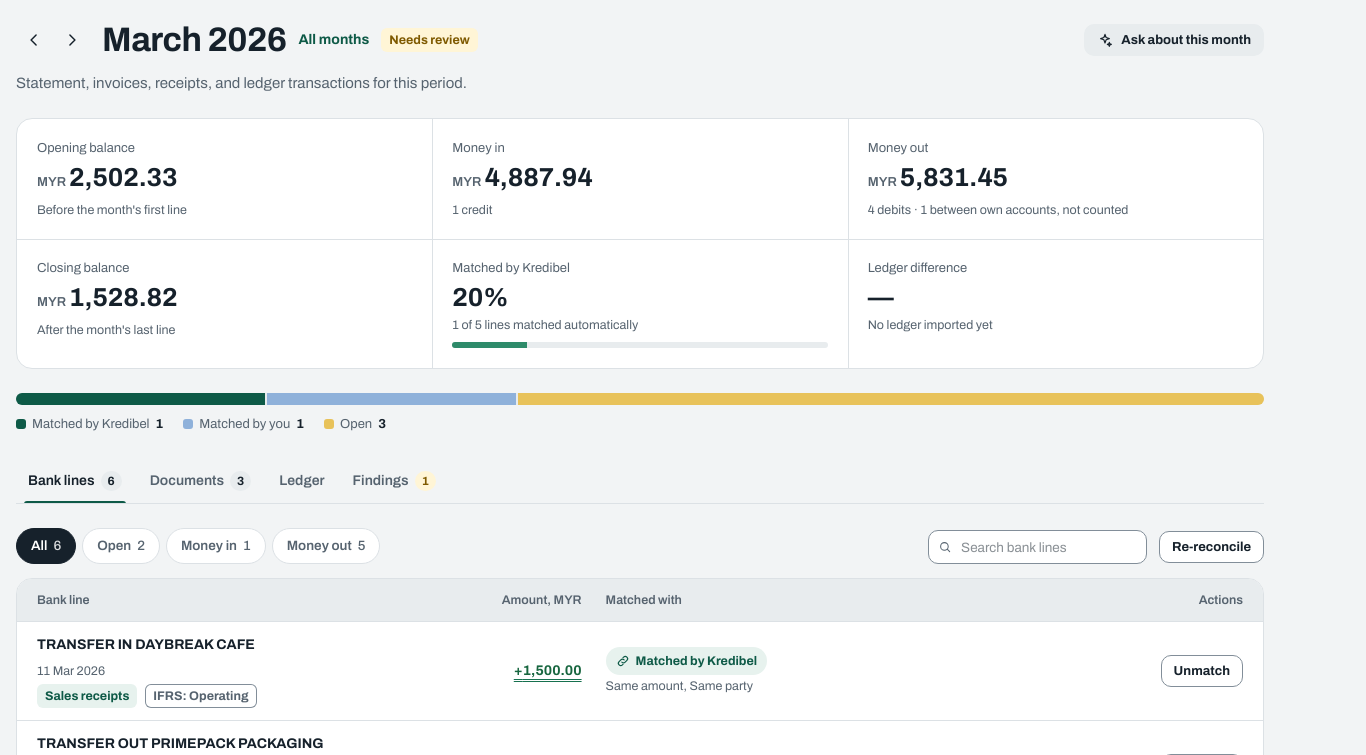
Test: MonthPage › searches bank lines by description and category
expect the text "TRANSFER IN DAYBREAK CAFE" is shown: met, box [37,637,255,652]
Type "DAYBREAK" into the field labelled "Search bank lines". click: {"x": 1038, "y": 547}
box: [928,530,1147,564]
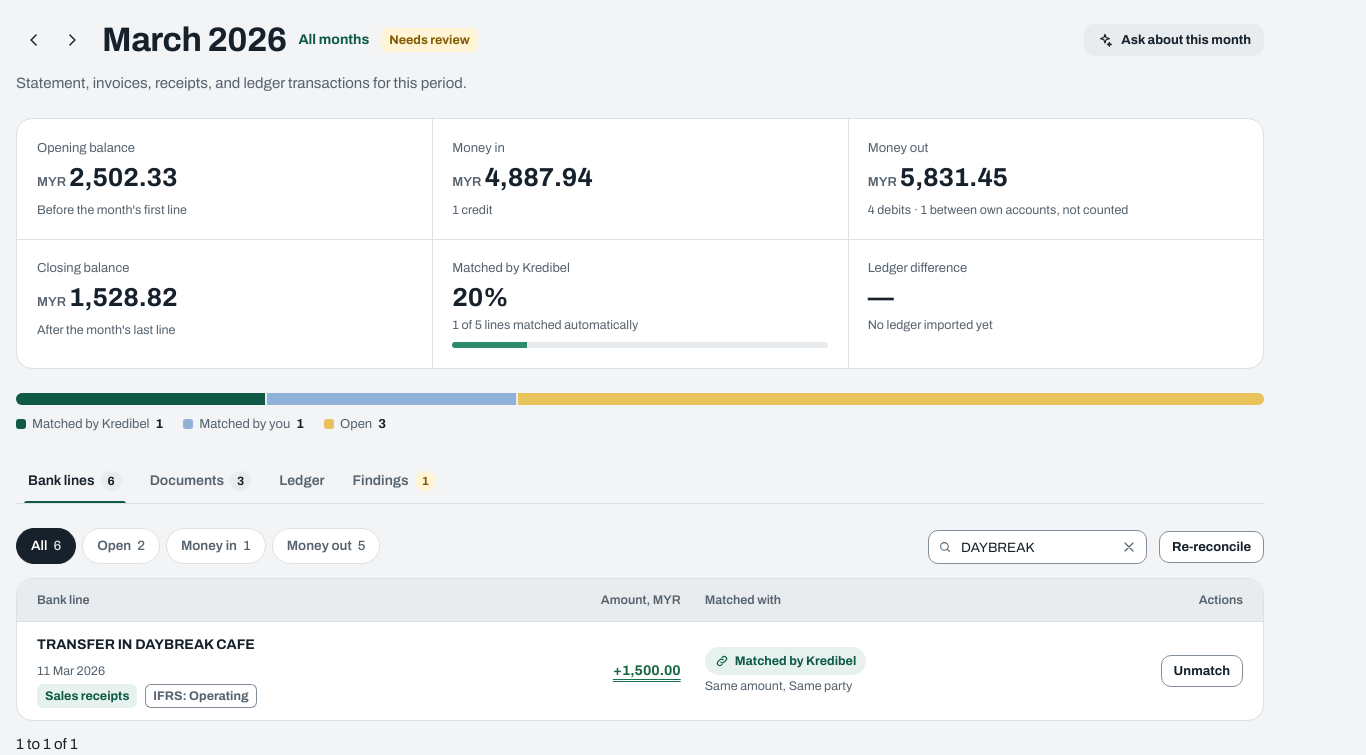
expect the text "TRANSFER IN DAYBREAK CAFE" is shown: met, box [37,637,255,652]
Replace the text in the field named "Search" with "rent". click: {"x": 1038, "y": 547}
box: [928,530,1147,564]
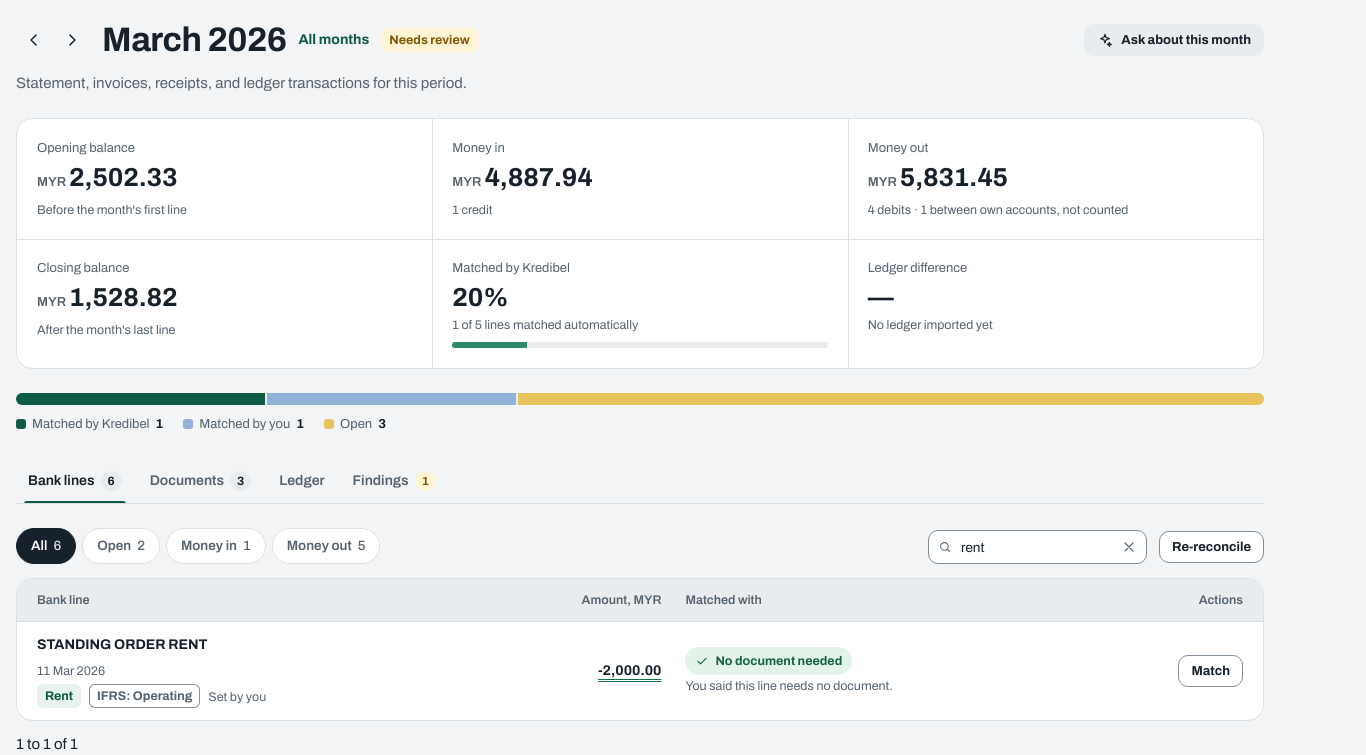
expect the text "STANDING ORDER RENT" is shown: met, box [37,637,208,652]
expect the text "TRANSFER IN DAYBREAK CAFE" is gone: met
